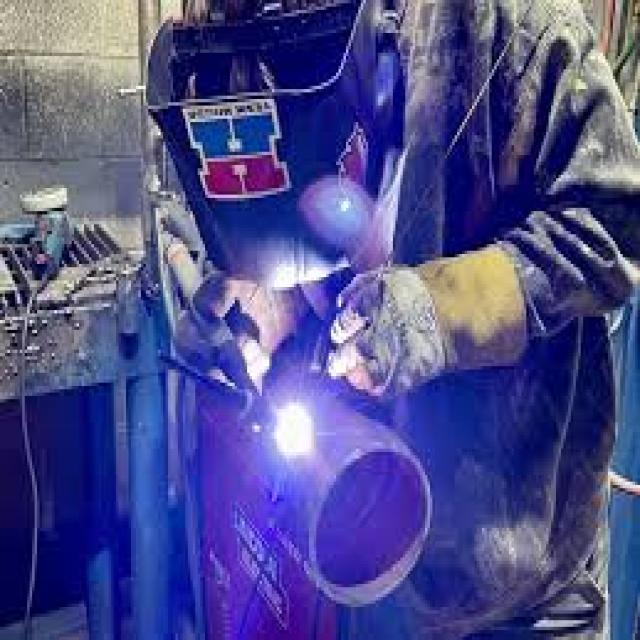welding: (275, 400, 316, 462)
